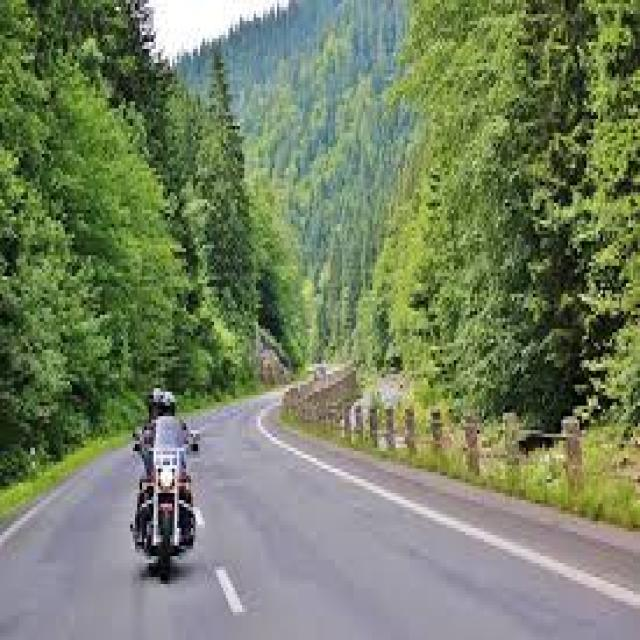MOTORCYCLE: (131, 410, 194, 572)
